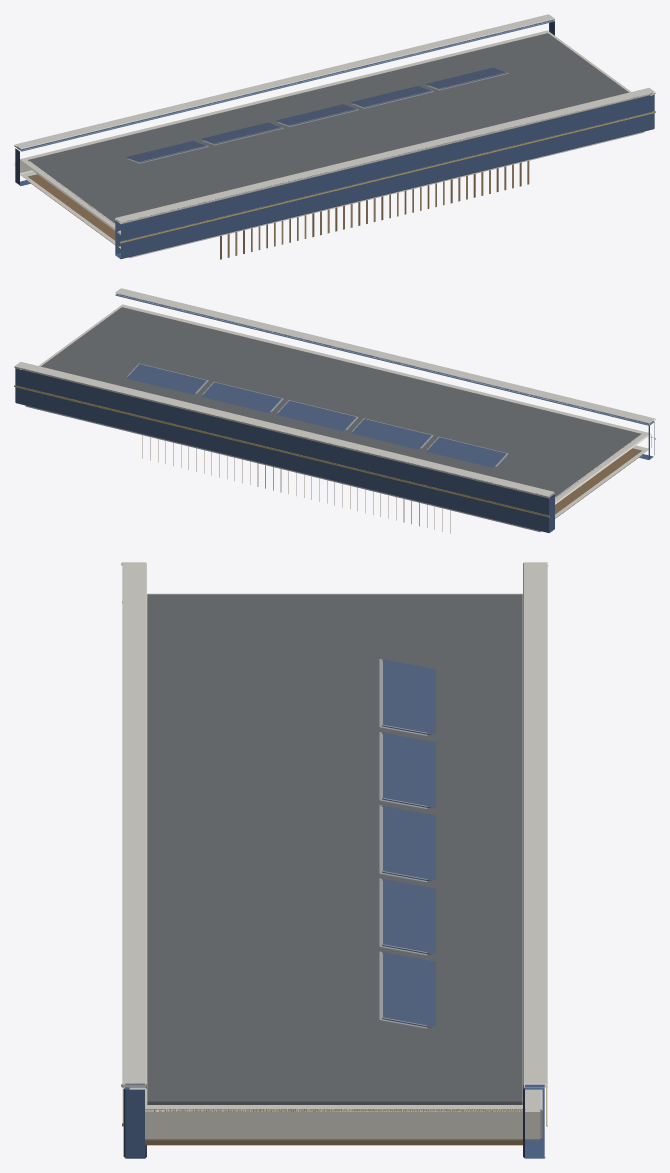
File: gate_canopy.glb
The picture shows the model from 3 angles, top to bottom: view 1: azimuth 30°, elevation 25°; view 2: azimuth 150°, elevation 25°; view 3: azimuth 270°, elevation 25°; orthographic projection. The views are drawn at different scales.
Parts seen in each view (by area): view 1: gate_canopy; view 2: gate_canopy; view 3: gate_canopy.
Part boxes in pixels (x1=…): gate_canopy: x1=14, y1=14, x2=655, y2=259; gate_canopy: x1=14, y1=288, x2=655, y2=533; gate_canopy: x1=121, y1=562, x2=548, y2=1158.
Bounding box in the file's own units: 21.44 × 2.86 × 7.4.
